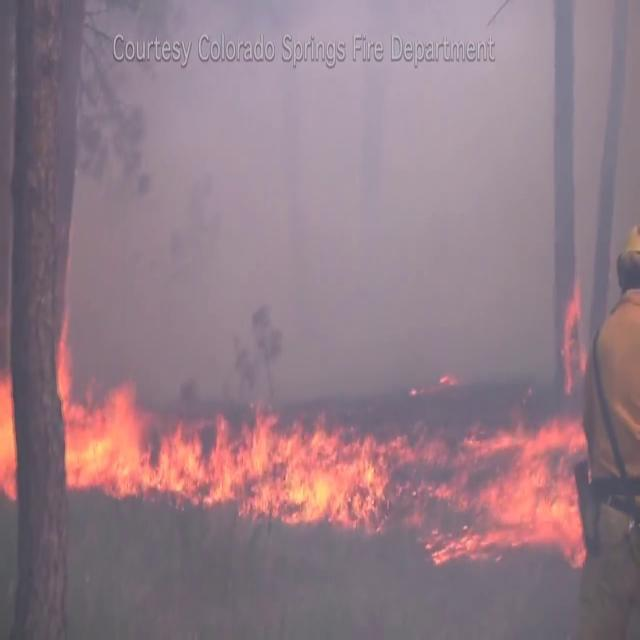Fire: (56, 381, 398, 518), (424, 403, 586, 574), (0, 357, 22, 502)
Smoke: (24, 1, 634, 432)
